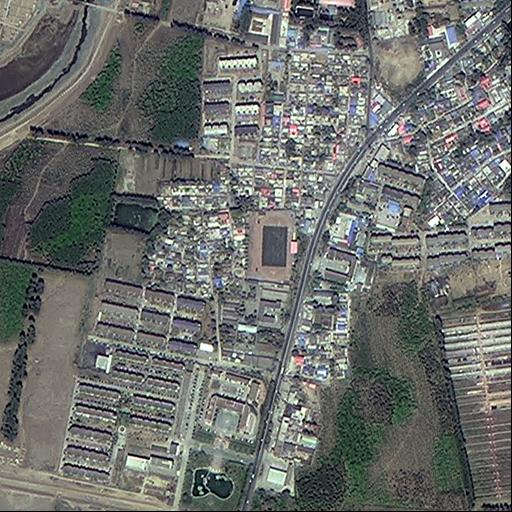school: (215, 205, 296, 372)
